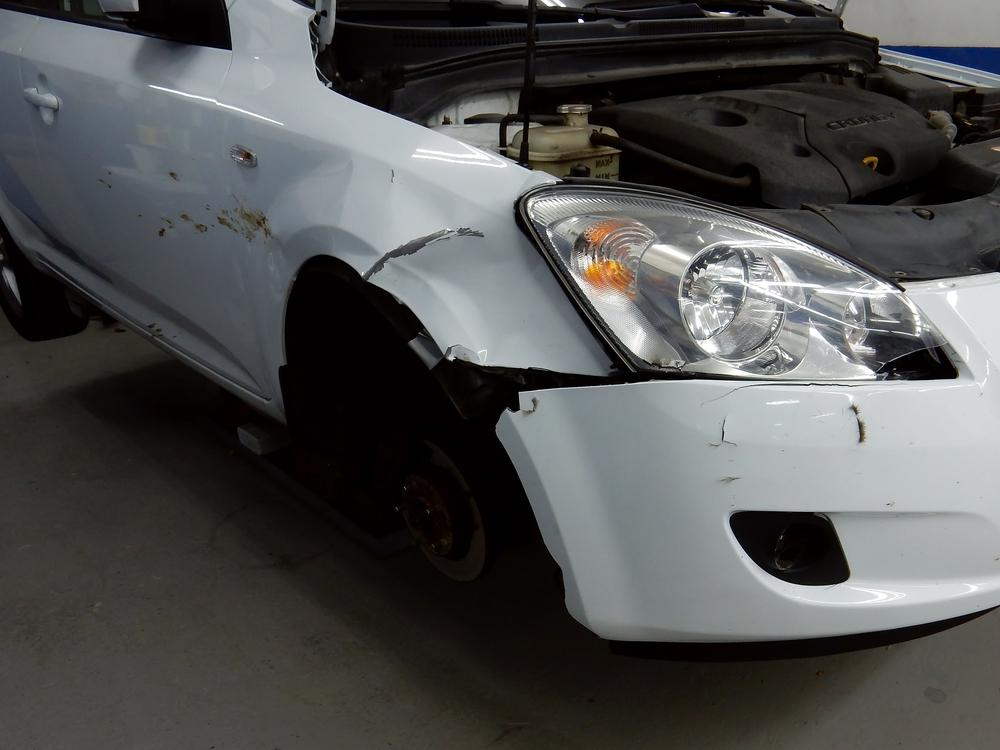crack: (700, 382, 909, 407), (705, 414, 739, 448)
dent: (366, 171, 573, 373)
lamp broken: (520, 186, 968, 382)
